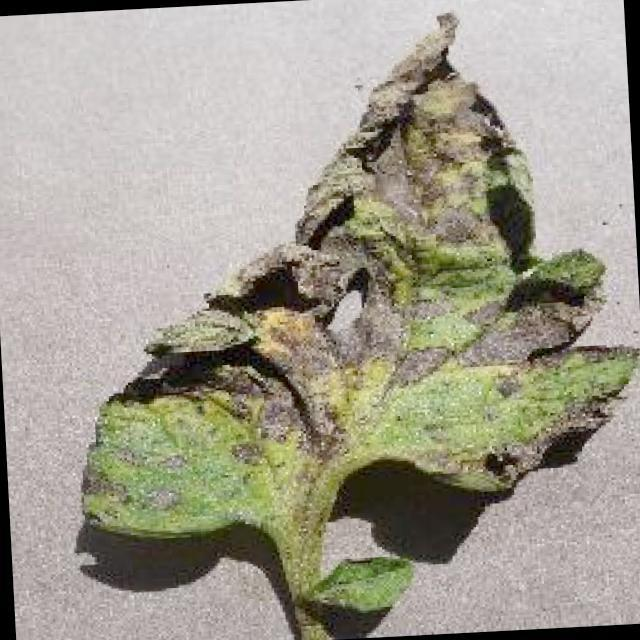Tomato Early blight leaf: (51, 0, 640, 534)
